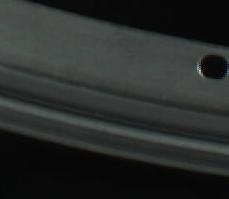holes: (195, 51, 229, 81)
